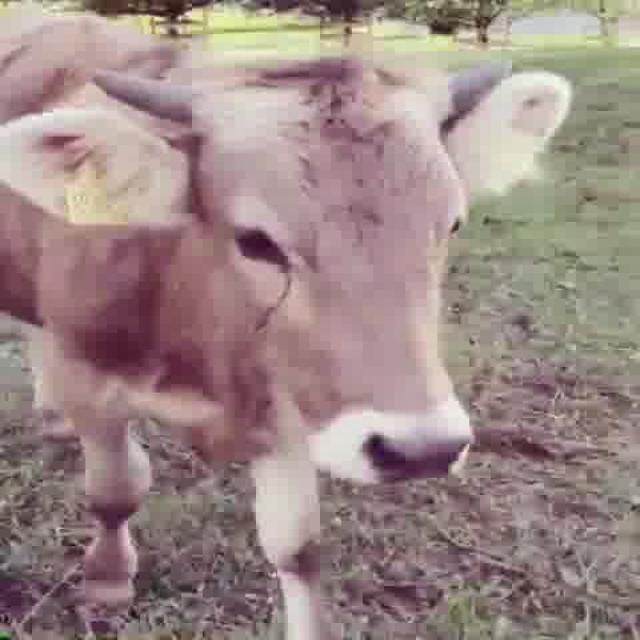cowFace: (9, 41, 586, 503)
